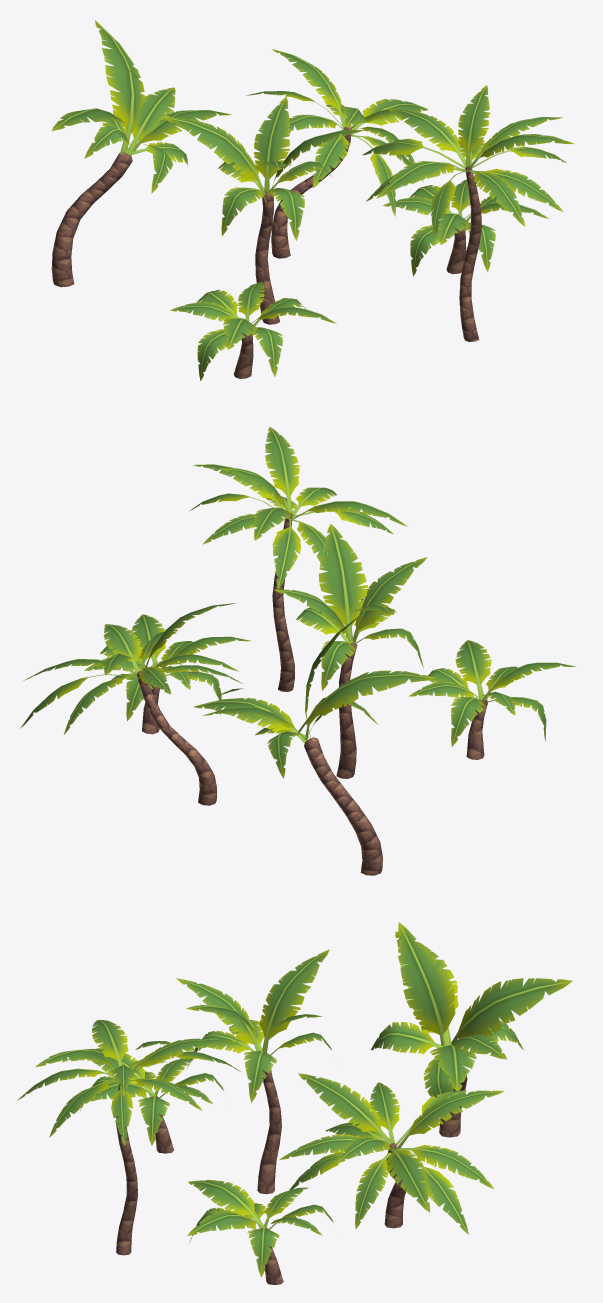
File: Palm Trees.glb
The picture shows the model from 3 angles, top to bottom: view 1: azimuth 30°, elevation 25°; view 2: azimuth 150°, elevation 25°; view 3: azimuth 270°, elevation 25°; orthographic projection.
Visible parts, largest first — view 1: PalmTree_1, PalmTree_2, PalmTree_3, PalmTree_4, PalmTree_5.001, PalmTree_5; view 2: PalmTree_1, PalmTree_3, PalmTree_2, PalmTree_4, PalmTree_5.001, PalmTree_5; view 3: PalmTree_4, PalmTree_2, PalmTree_3, PalmTree_1, PalmTree_5, PalmTree_5.001.
Boxes of the visible parts, x1,y1,x2,y2 form: PalmTree_1: (362, 85, 574, 342); PalmTree_2: (51, 20, 231, 287); PalmTree_3: (161, 96, 364, 324); PalmTree_4: (246, 49, 437, 258); PalmTree_5.001: (170, 281, 336, 380); PalmTree_5: (383, 179, 549, 276); PalmTree_1: (189, 427, 407, 691); PalmTree_3: (274, 524, 427, 778); PalmTree_2: (193, 616, 437, 875); PalmTree_4: (20, 603, 242, 805); PalmTree_5.001: (409, 640, 575, 759); PalmTree_5: (84, 614, 250, 734); PalmTree_4: (279, 1073, 504, 1234); PalmTree_2: (371, 922, 572, 1137); PalmTree_3: (176, 949, 331, 1194); PalmTree_1: (17, 1019, 240, 1255); PalmTree_5: (187, 1180, 333, 1284); PalmTree_5.001: (80, 1048, 223, 1153).
Bounding box in the file's own units: 10.27 × 5.28 × 11.64.
4 materials, 4 textured.
